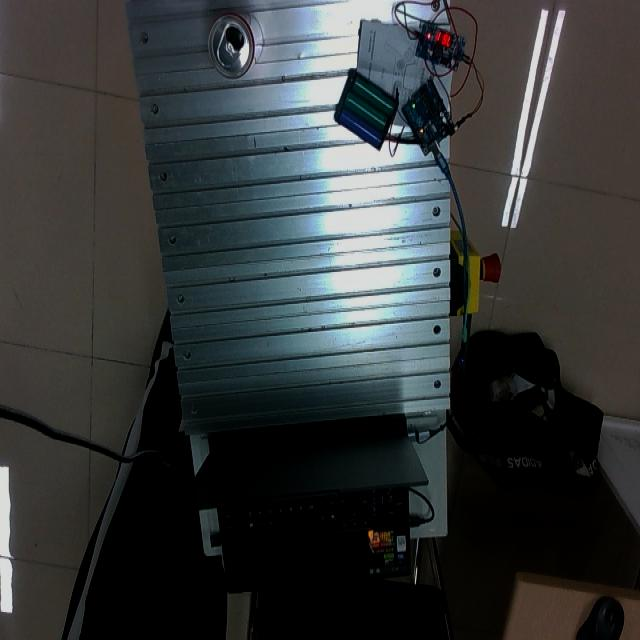coca: (207, 12, 256, 80)
